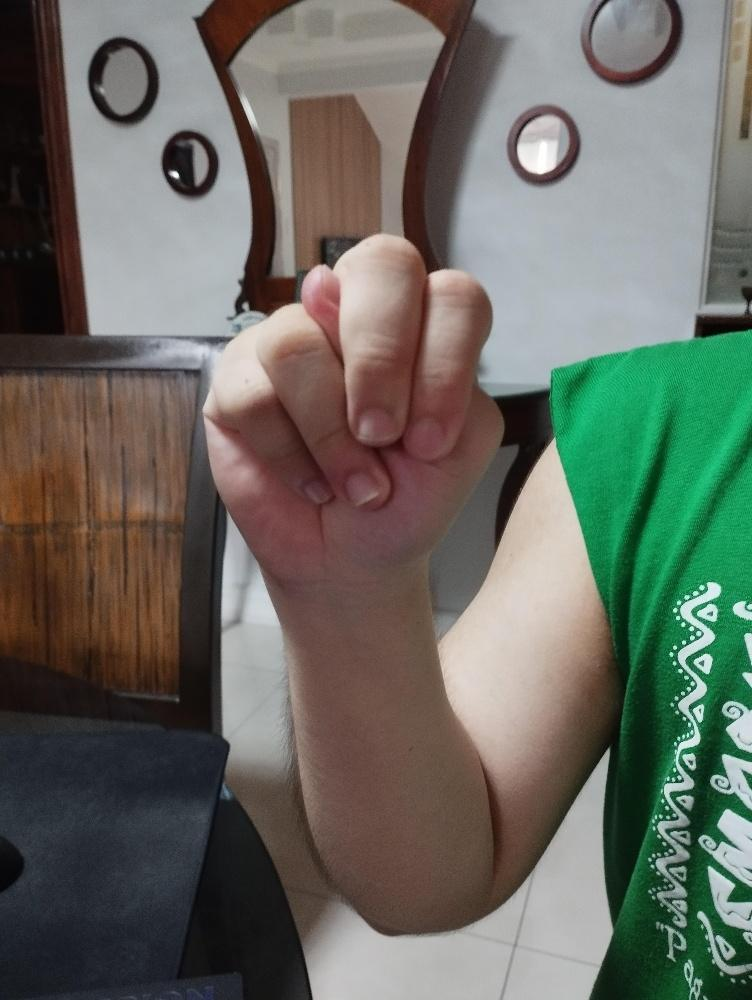n: (200, 229, 507, 591)
